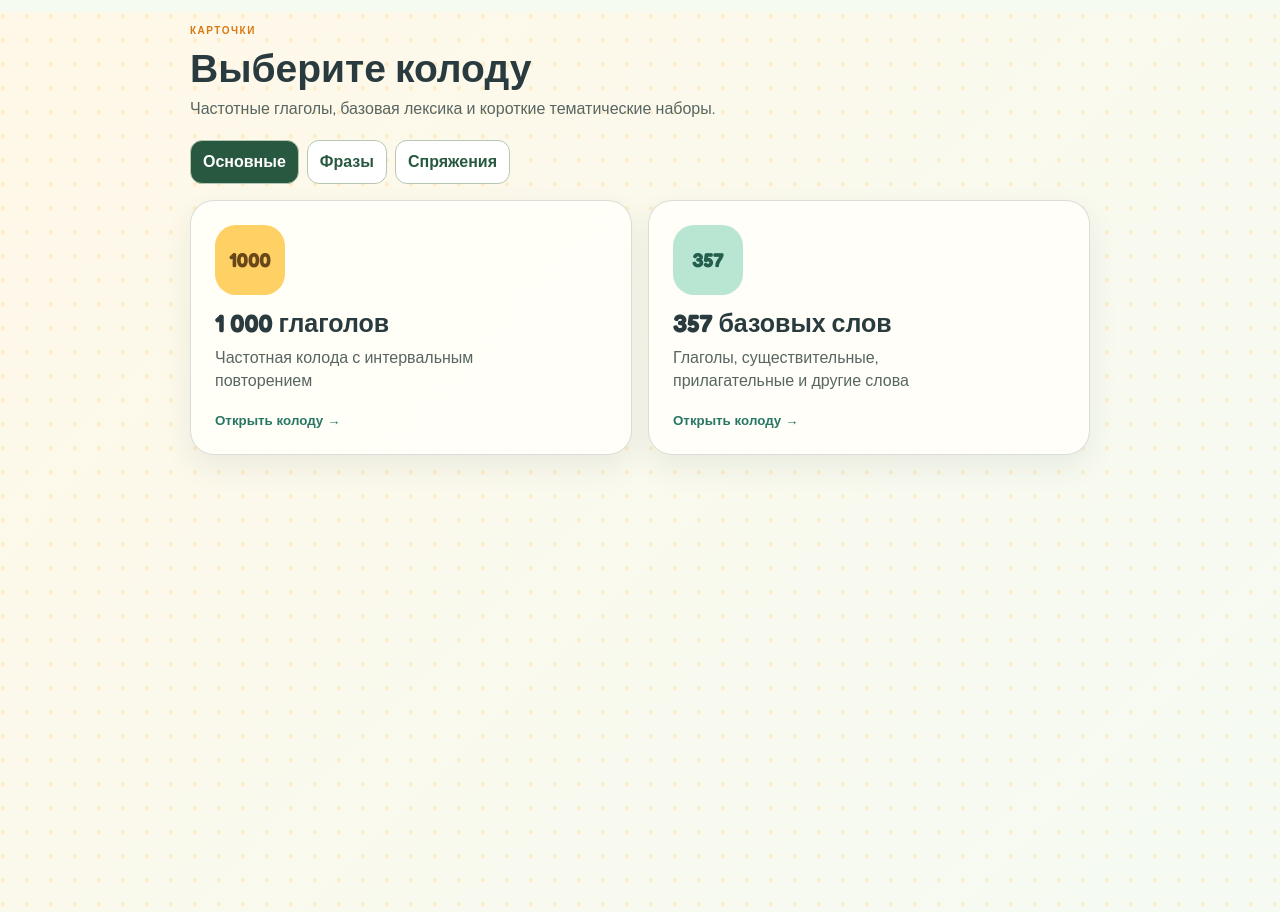
Test: Cards server cache and local session › cancels a stale read started during a write and retains the confirmed cache row
This screenshot has width=1280, height=912.
Click the button with aria-label "Открыть колоду «1 000 глаголов»" at (250, 260), box [190,200,632,455]
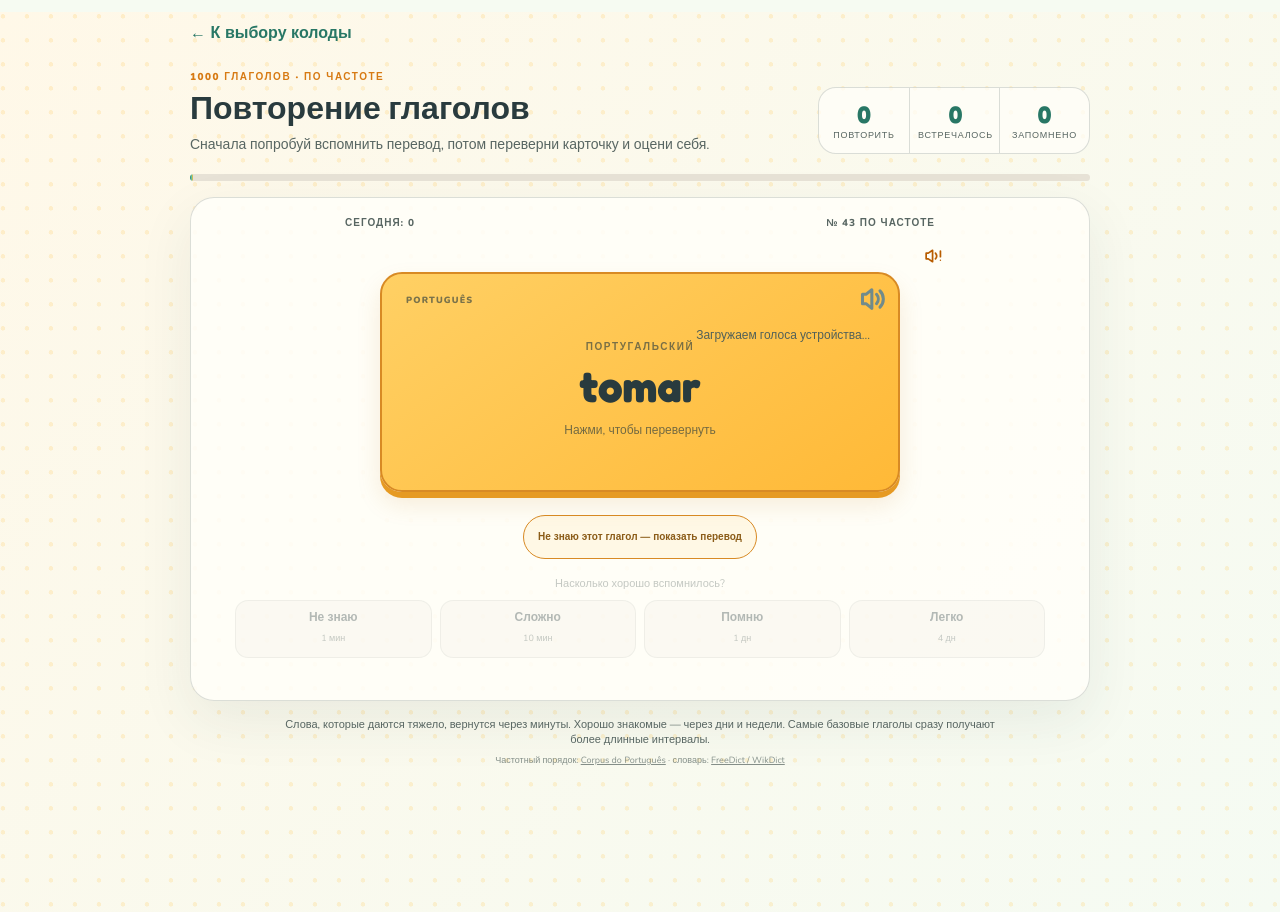
Now the button with aria-label "Показать перевод" is enabled
Click the button with aria-label "Показать перевод" at (640, 382), box [380,272,900,492]
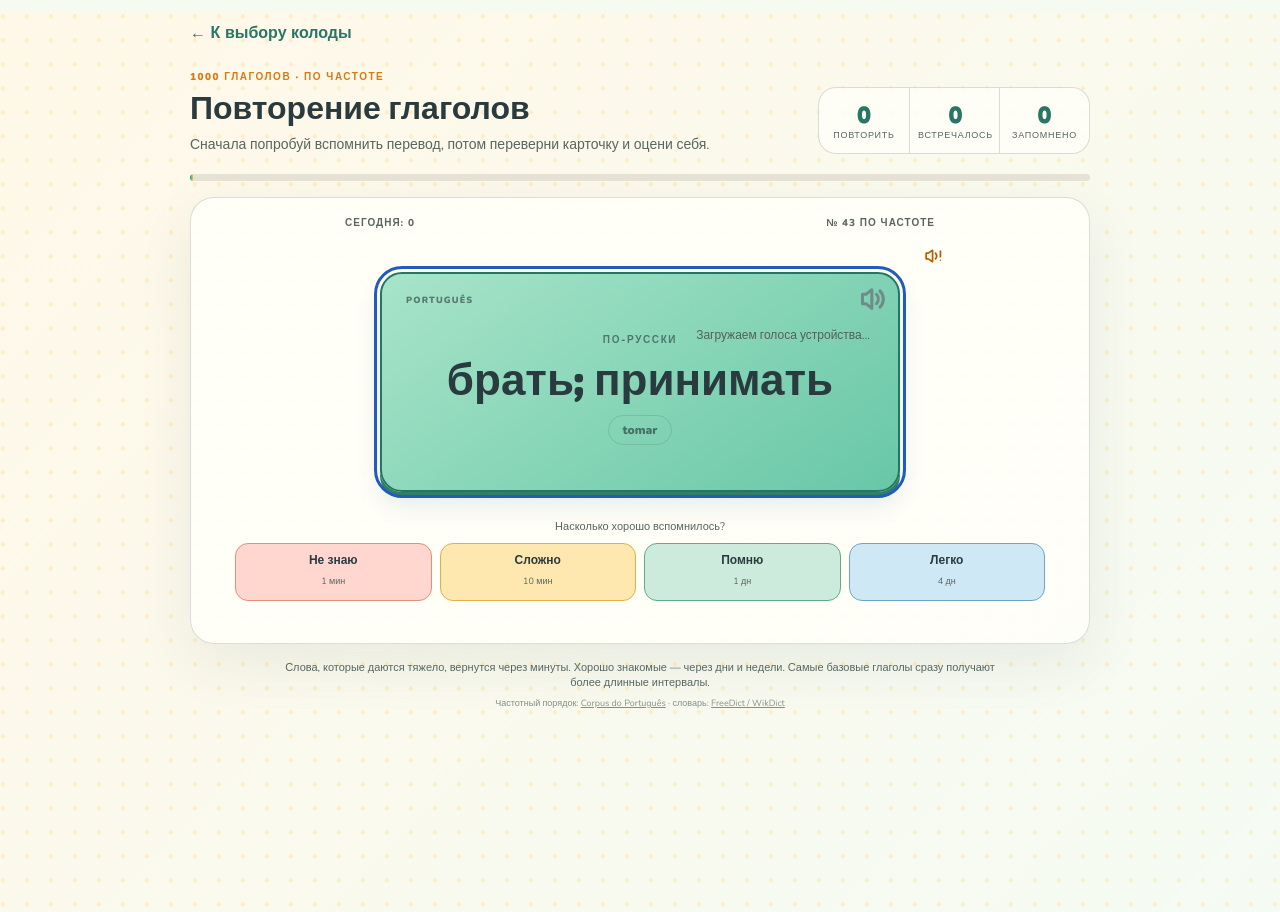
Click the button "Помню 1 дн" at (742, 572), box [644,543,840,601]
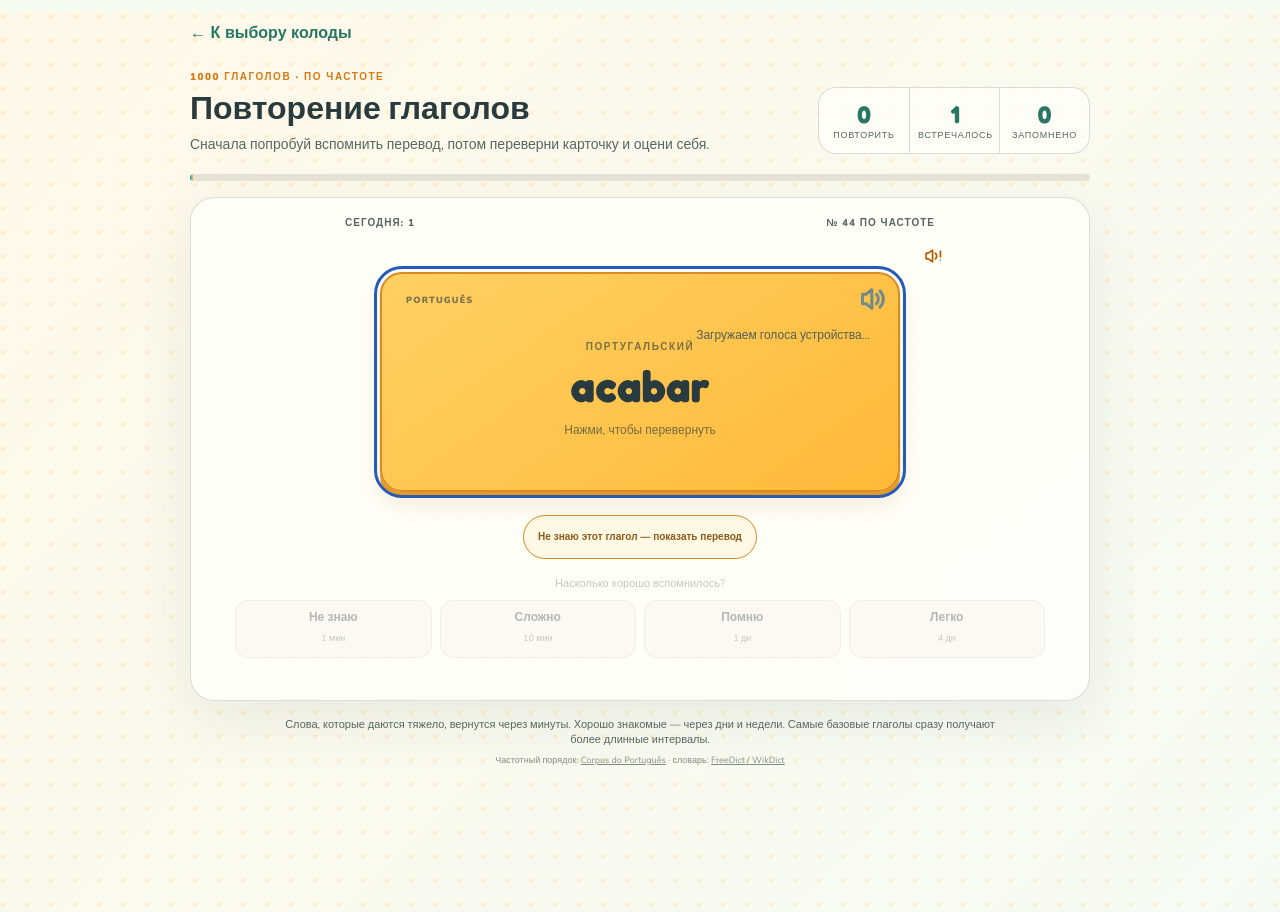
Now the text "Сегодня: 1" is shown, box [345,216,415,230]
